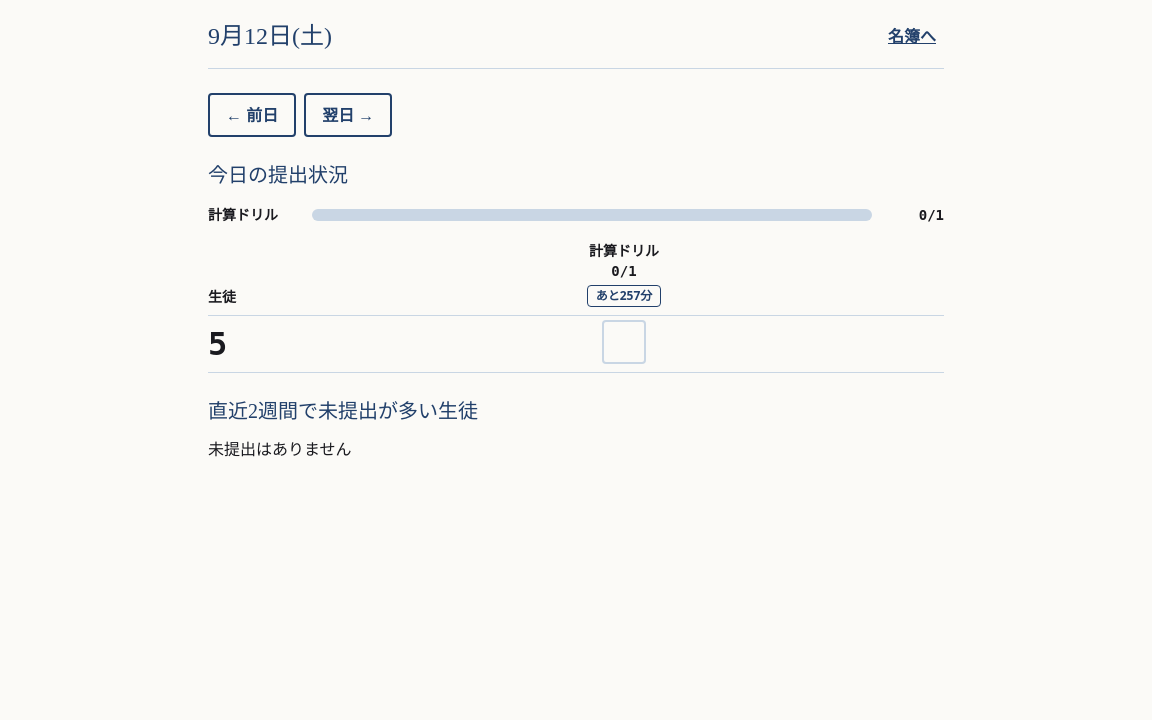
Test case: 欠席マーク › 未提出のセルをタップして欠席にできる
Click the button named "5番 計算ドリル 未提出" at point(624, 342), box 602,320 -> 646,364
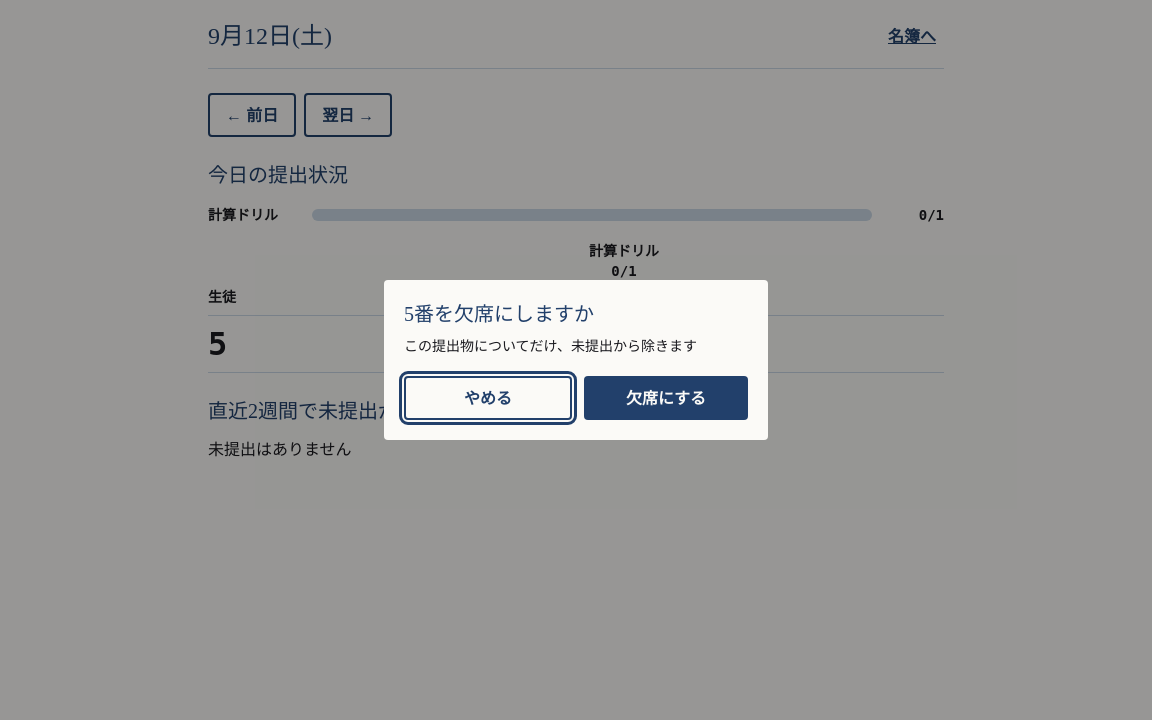
Click the button "欠席にする" at point(666, 398), box 584,376 -> 748,420
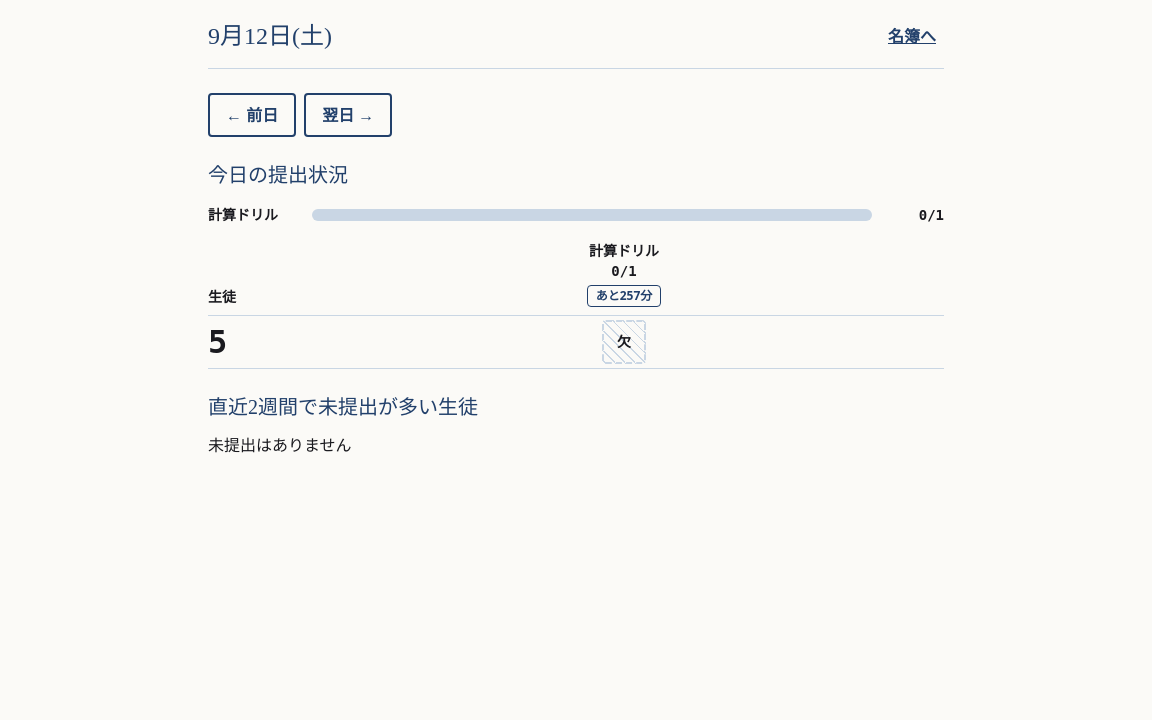
Expected: the button named "5番 計算ドリル 欠席" is shown, 602,320 -> 646,364
